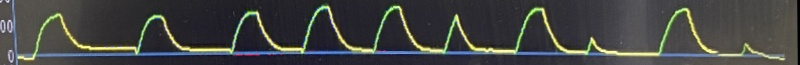normal_volume: (7, 1, 729, 61)
